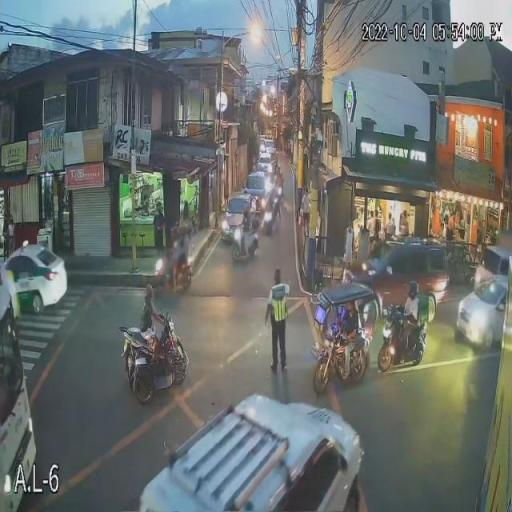helmet: (406, 280, 419, 294), (170, 224, 180, 240), (179, 224, 190, 236)
motorcycle: (119, 310, 188, 405), (376, 303, 428, 373), (154, 250, 194, 296), (230, 226, 260, 264), (262, 204, 279, 235)
rider: (391, 281, 425, 350), (140, 284, 169, 350), (168, 224, 182, 288), (179, 225, 193, 287), (235, 212, 253, 246), (263, 194, 279, 222)
